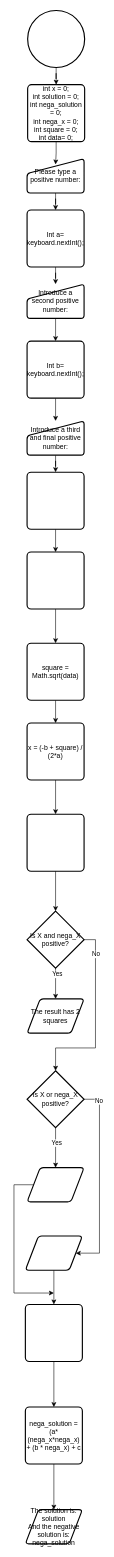
Image size: 114x1557. Some labels were removed from this diagram. Each missing label, with the centre of its shape:
"data = (b*b)-4*a*c" belongs at point (55, 580).
"Int c= keyboard.nextInt();" belongs at point (55, 500).
"nega_x = (-b - square) / (2*a)" belongs at point (55, 842).
"solution = (a*(x*x) + (b * x) + c" belongs at point (54, 1333).
"START" belongs at point (56, 39).
"The result has 1 square" belongs at point (55, 1184).
"The result has no square" belongs at point (54, 1253).
